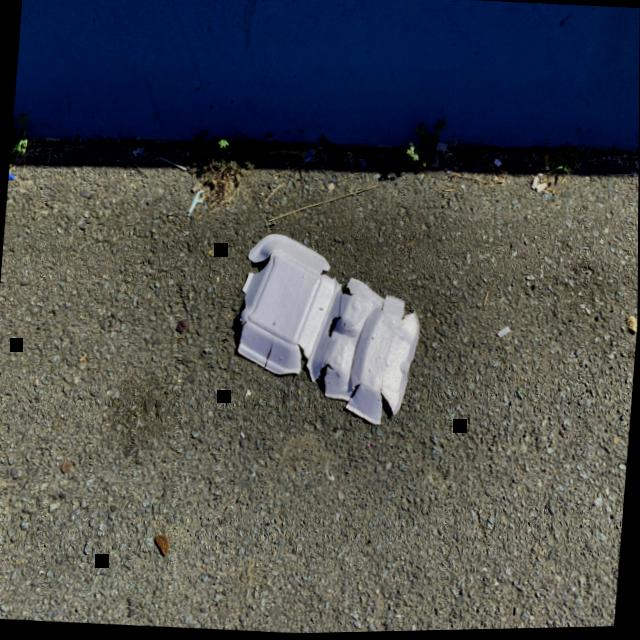Cigarette: (544, 156, 549, 173)
Foam food container: (238, 235, 420, 427)
Other plastic bottle: (153, 157, 186, 171), (189, 191, 204, 215), (498, 328, 510, 339)
Unlabeled litter: (305, 150, 313, 164), (435, 144, 447, 153), (8, 173, 15, 179)
